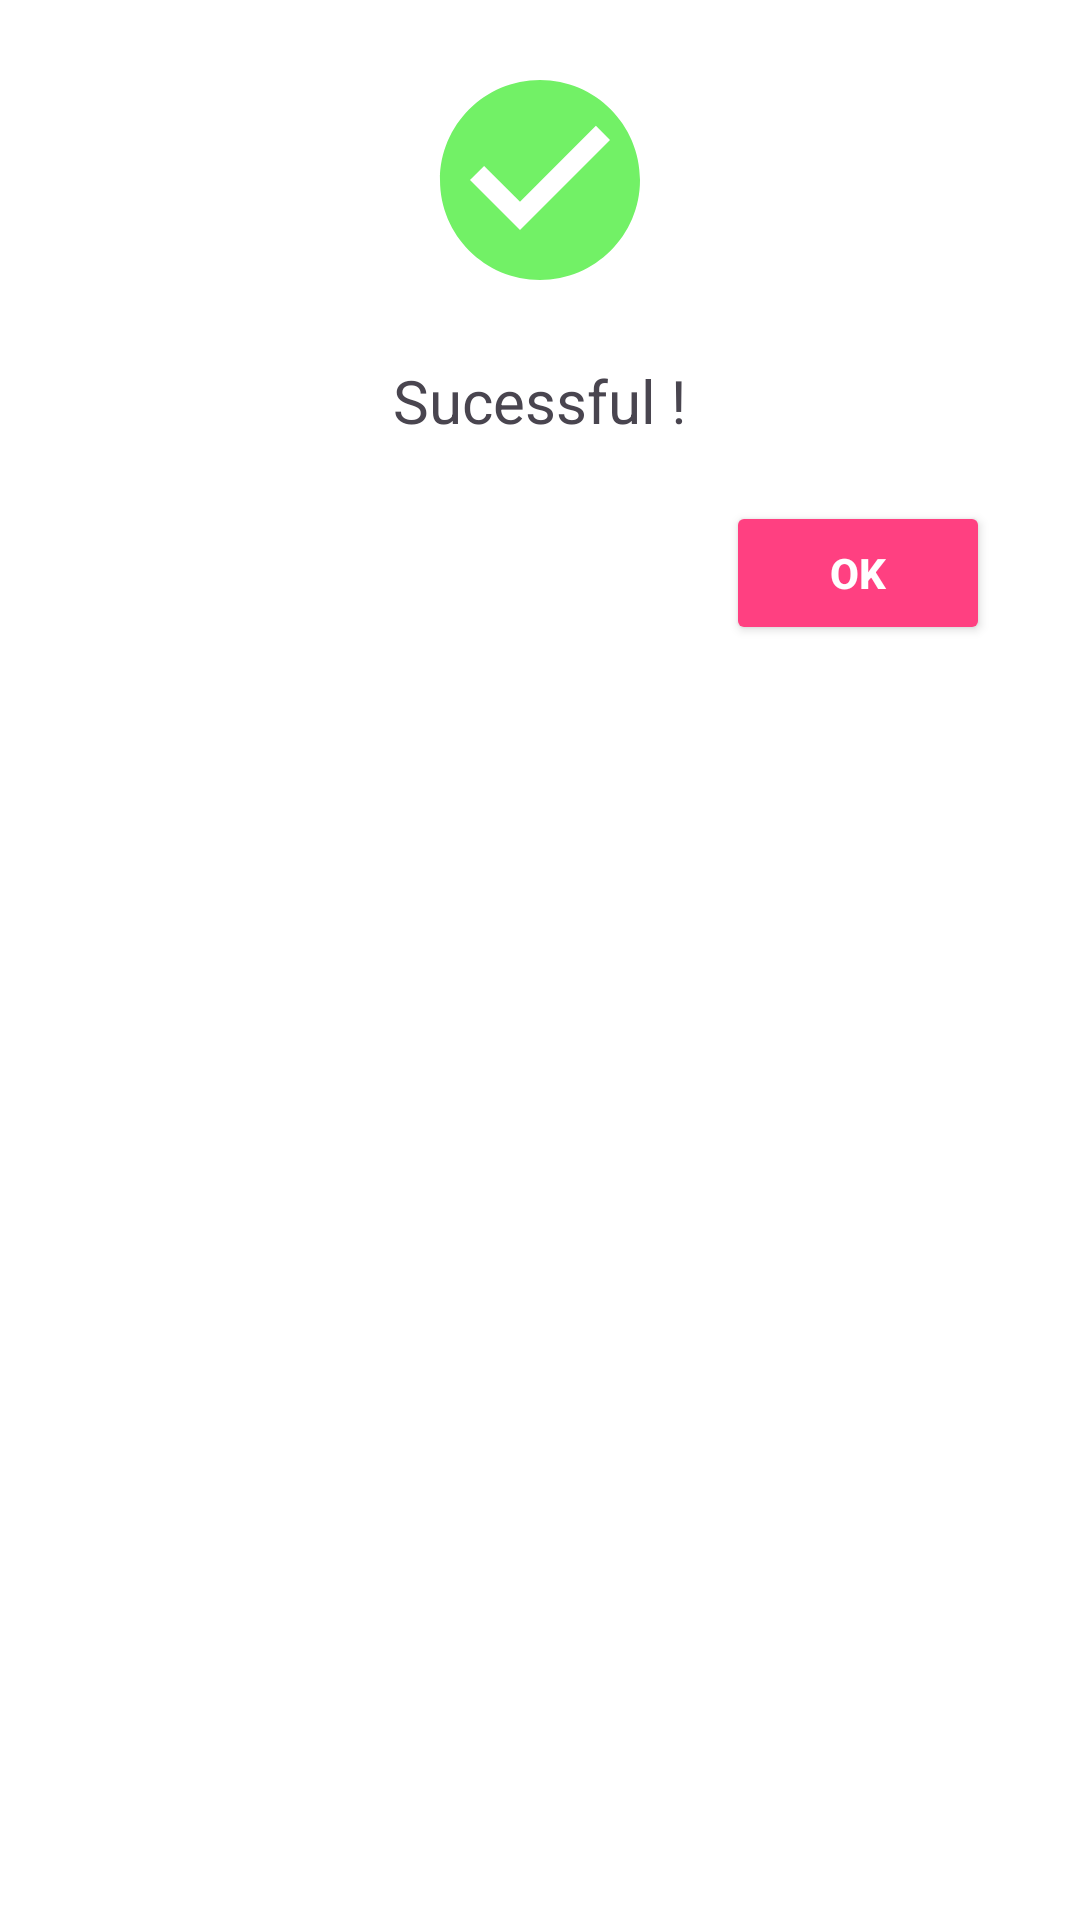

Icon click points for this 1080 × 1920 phone screenshot, format (x=x, y=y):
check sucess: (x=540, y=180)
